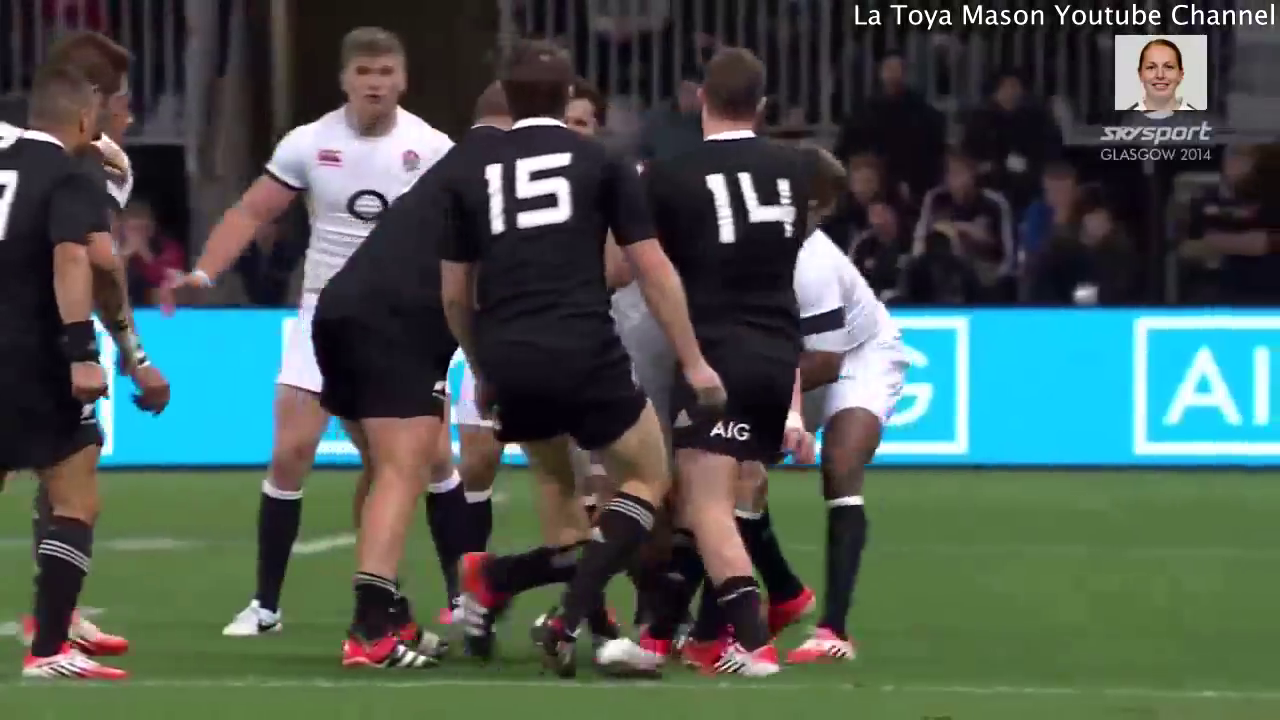player: (157, 27, 472, 651), (440, 34, 702, 716), (661, 44, 824, 692), (1, 54, 142, 690), (786, 195, 905, 687)
